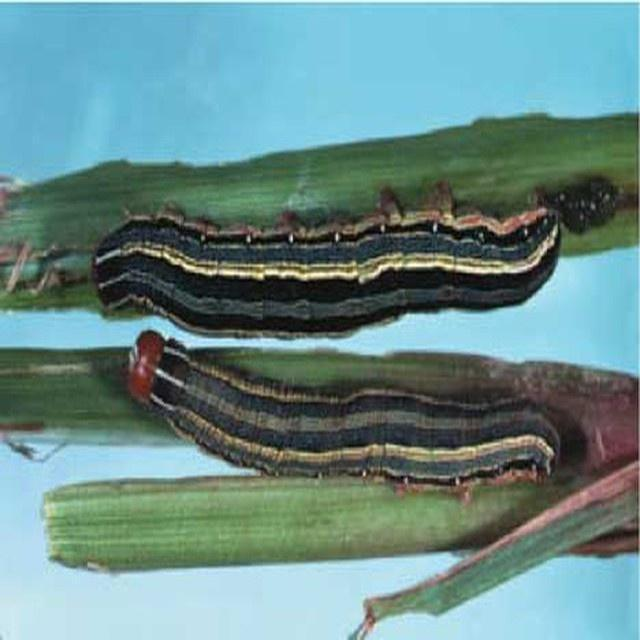gusano_cogollero: (112, 328, 560, 492), (86, 188, 558, 335)
